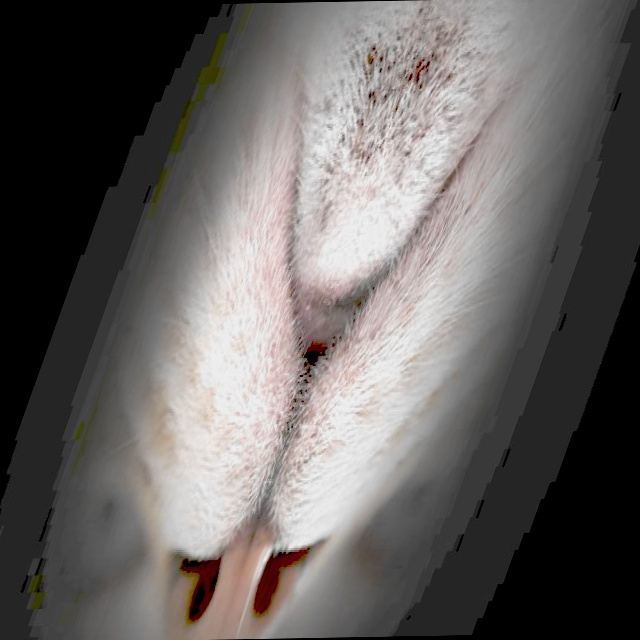acne: (319, 3, 479, 188)
